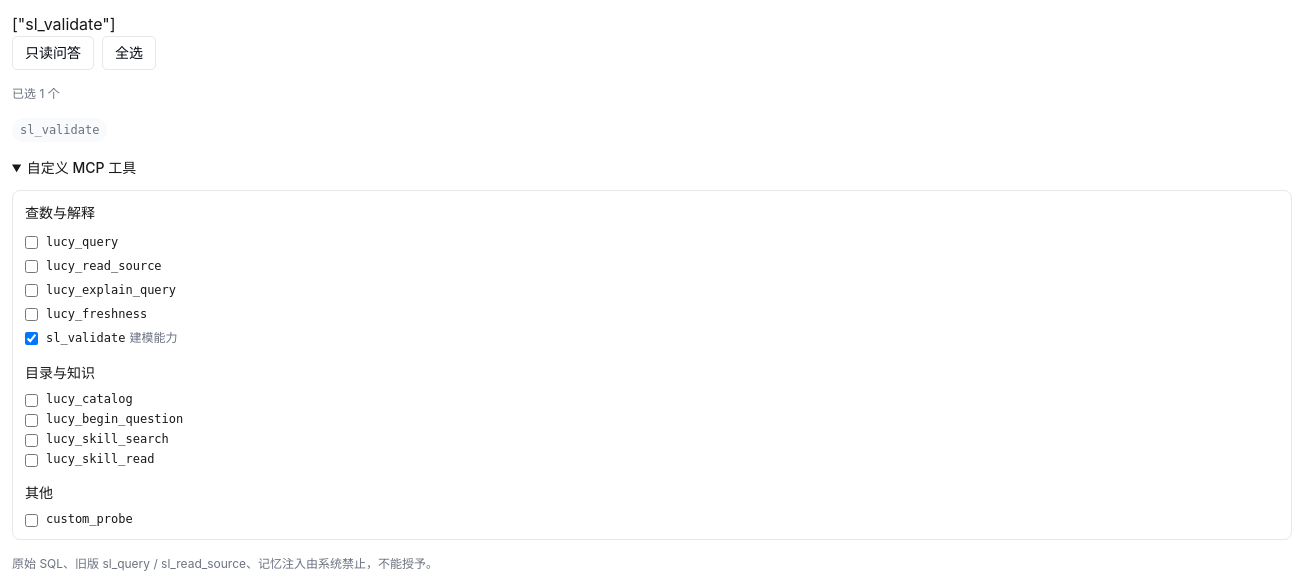
RoleToolGrants › clicking 只读问答: sl_validate not in selected set, count 已选 6 个, no /16, bottom sentence
// Click 只读问答 preset
Click the button "只读问答".
click(53, 53)  # box [12,36,94,70]
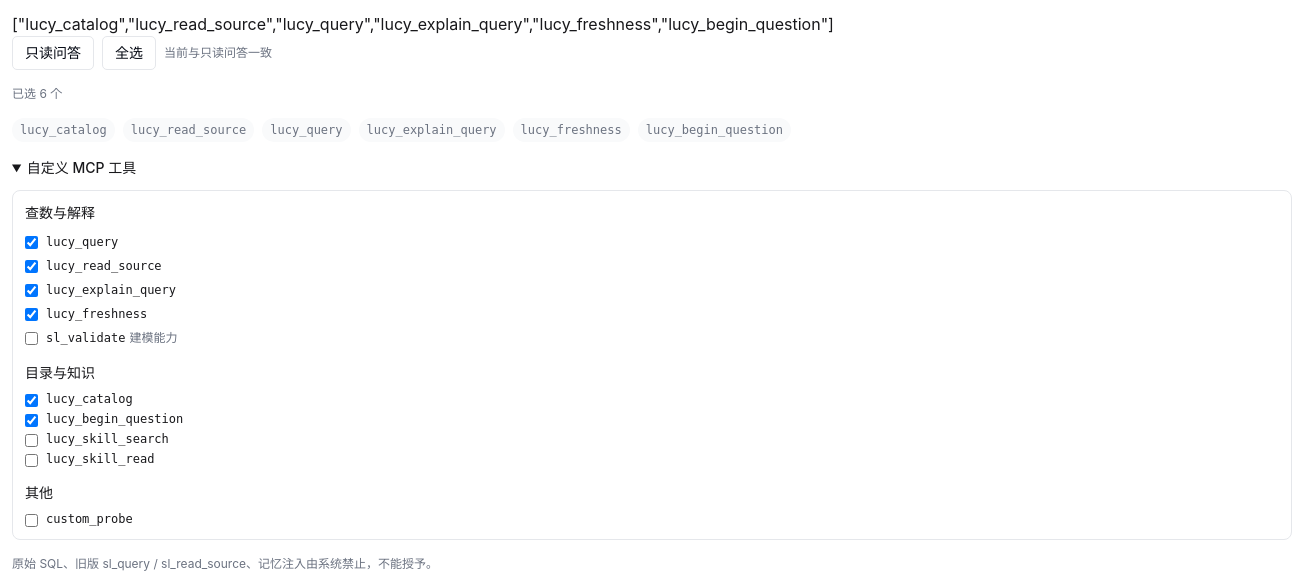
Check: the text "sl_validate" is not shown
Check: the text "已选 6 个" is shown, box [12,86,62,101]
